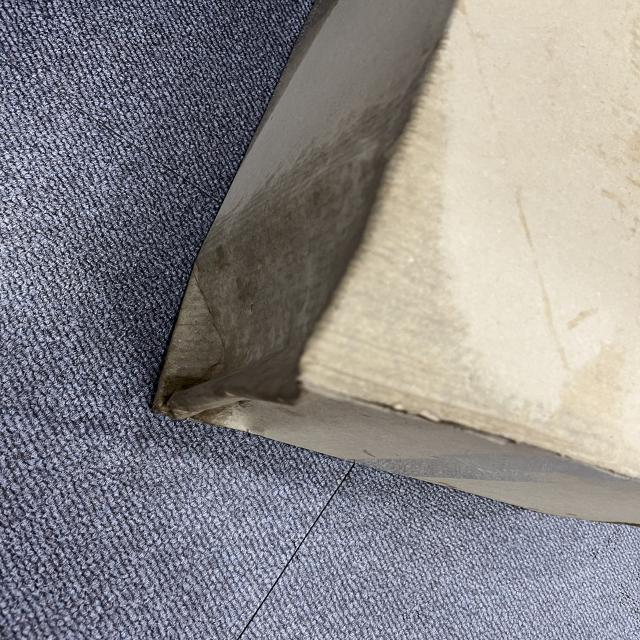wet: (172, 55, 477, 442)
